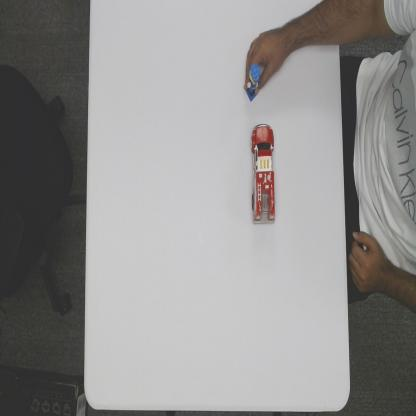Arm: (284, 3, 339, 58)
Firetruck: (249, 121, 277, 226)
Hand: (243, 29, 282, 95)
